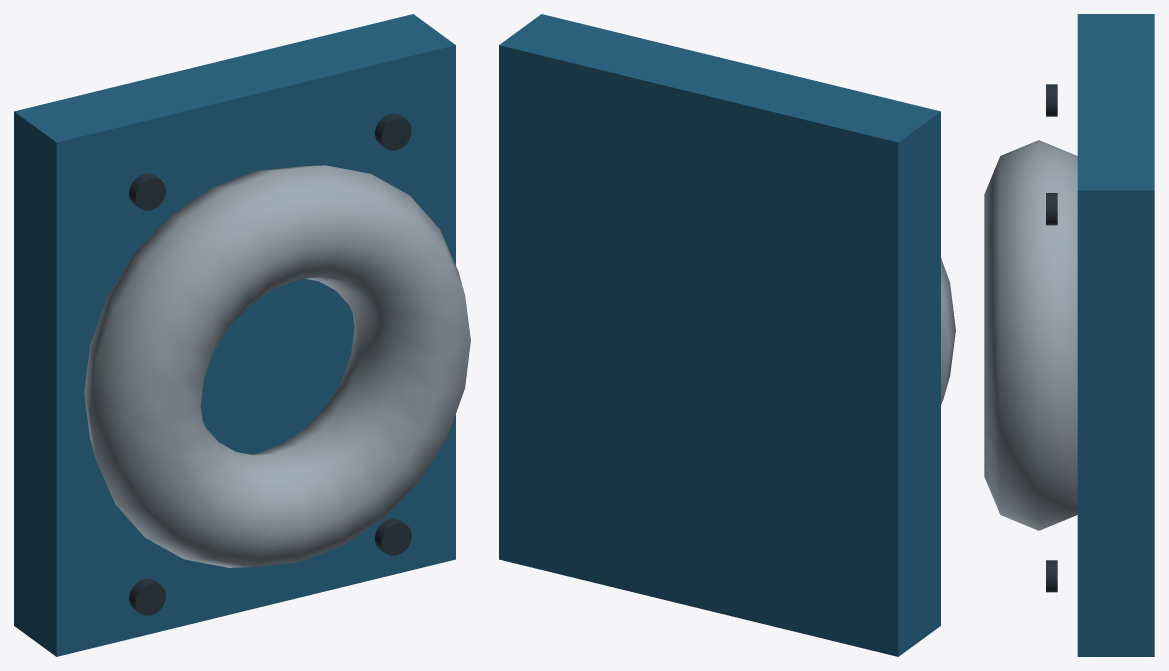
3 renders of one model, left to right at view 1: azimuth 30°, elevation 25°; view 2: azimuth 150°, elevation 25°; view 3: azimuth 270°, elevation 25°, orthographic. The views are drawn at different scales.
Visible parts, largest first — view 1: NSK,带座外球面轴承,UCF213,; view 2: NSK,带座外球面轴承,UCF213,; view 3: NSK,带座外球面轴承,UCF213,.
Boxes of the visible parts, x1,y1,x2,y2 form: NSK,带座外球面轴承,UCF213,: [14, 14, 470, 656]; NSK,带座外球面轴承,UCF213,: [499, 14, 955, 656]; NSK,带座外球面轴承,UCF213,: [984, 14, 1154, 656].
Bounding box in the file's own units: 0.65 × 0.8 × 0.265.
